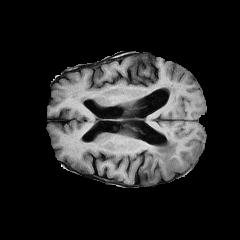glioma: (141, 131, 178, 177)
